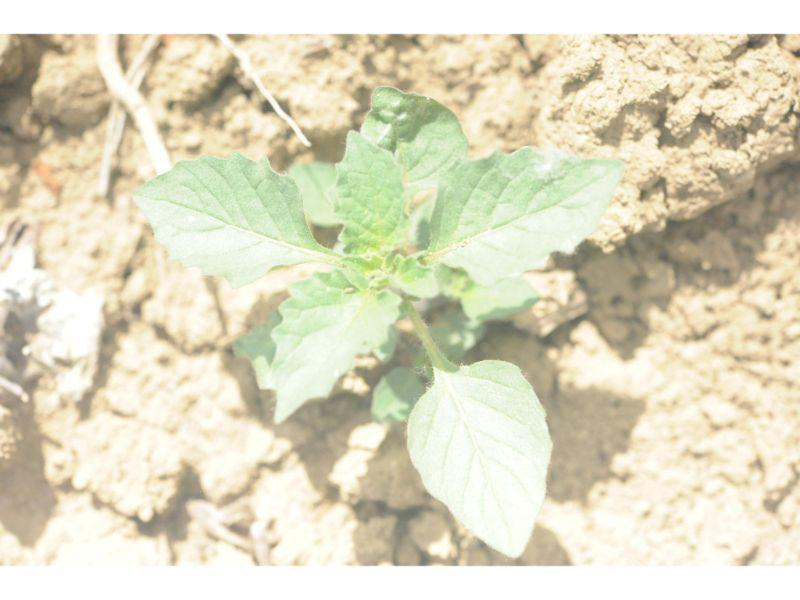nightshade: (132, 86, 627, 555)
